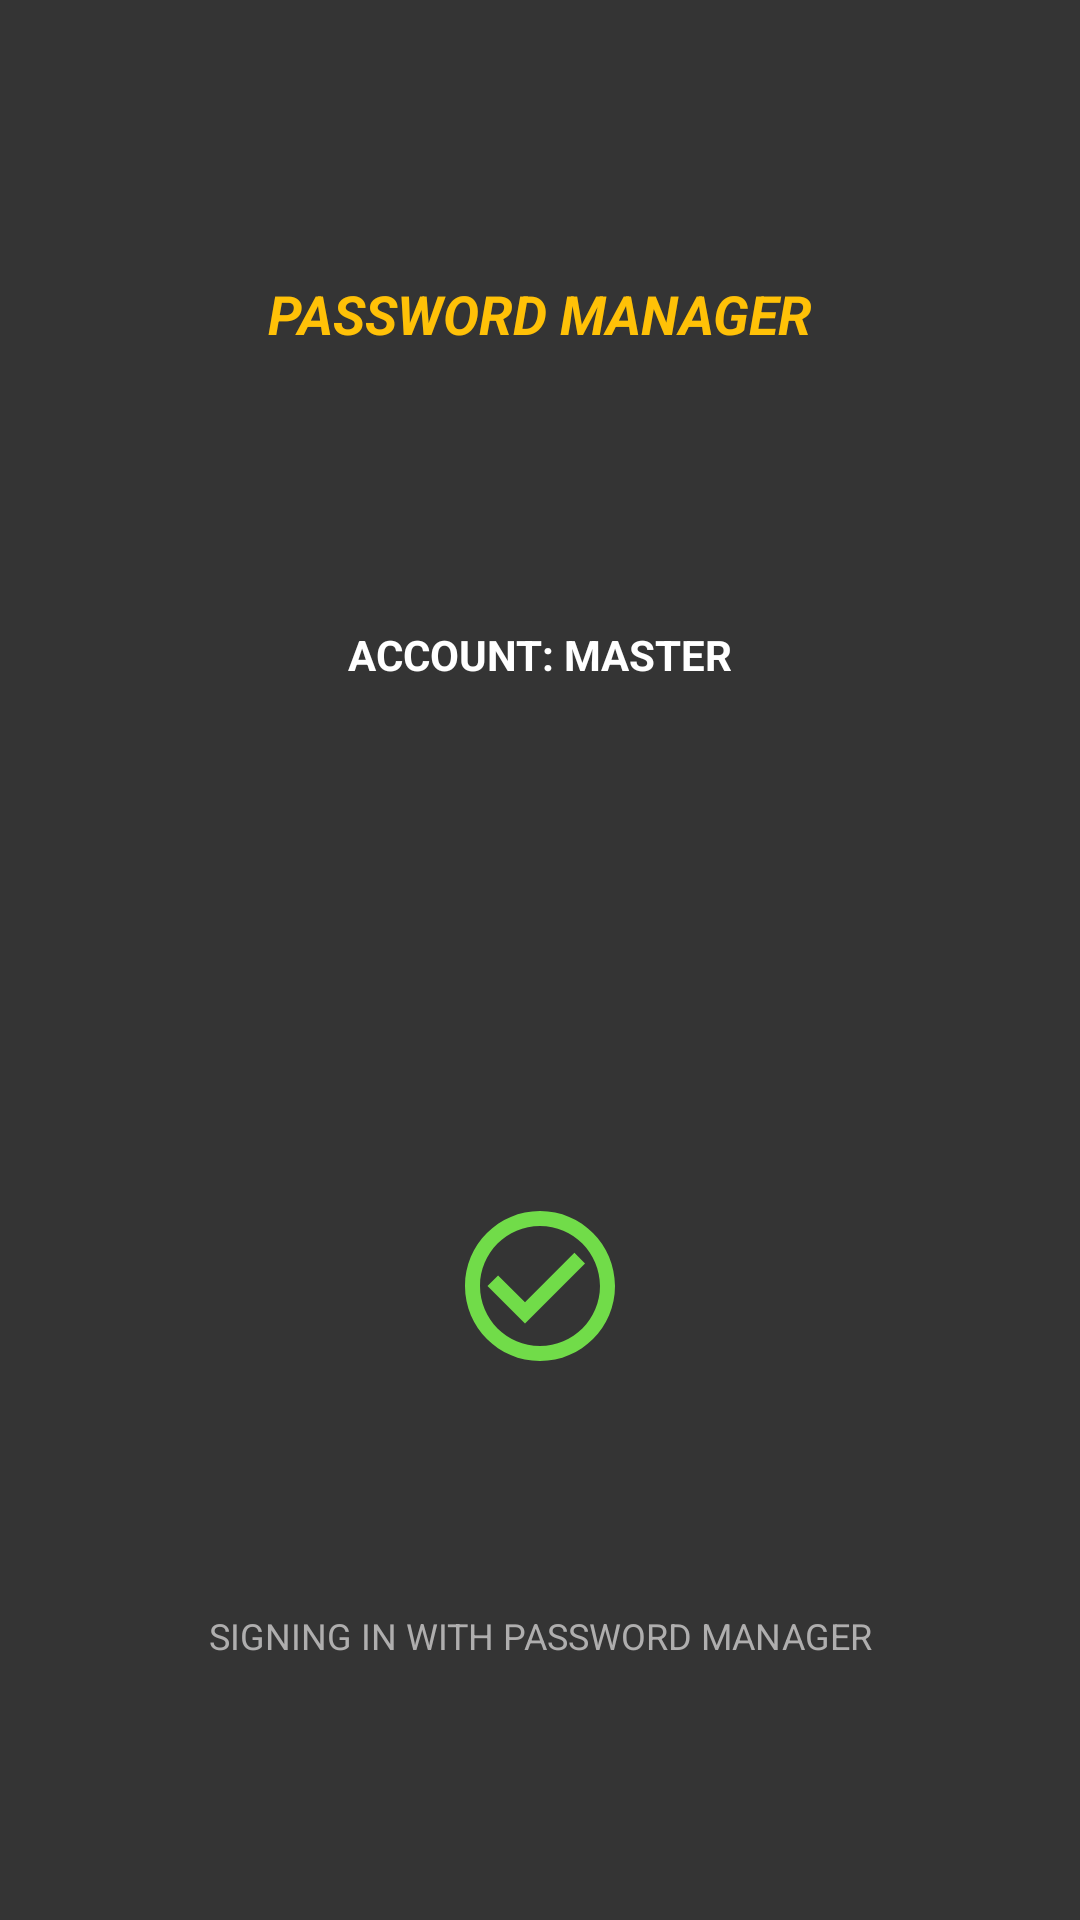

Named icons in this screenshot (1080 × 1920) and their bounding boxes, [x1=x1, y1=y1, x2=x2, y2=y2]:
check circle: [x1=465, y1=1211, x2=615, y2=1361]
